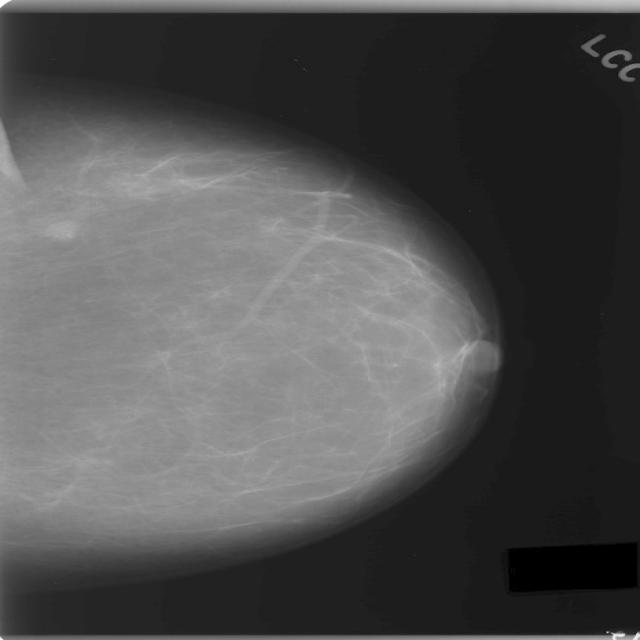tumour: (40, 218, 77, 240)
